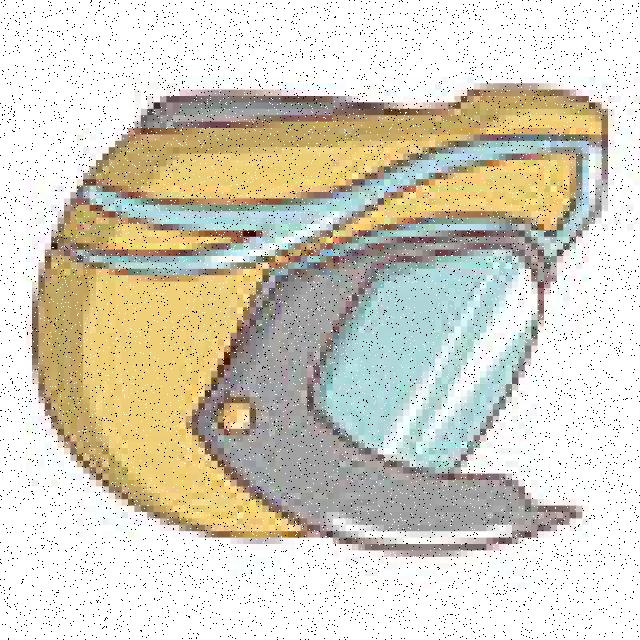Helmet: (14, 40, 625, 583)
